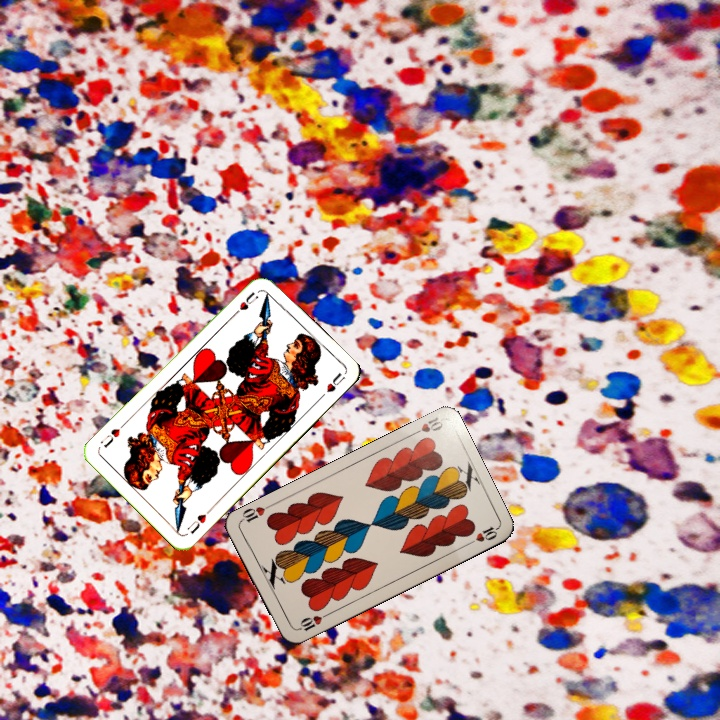H10: (406, 413, 446, 439), (293, 609, 331, 634)
HU: (183, 505, 214, 536), (236, 287, 261, 313)
